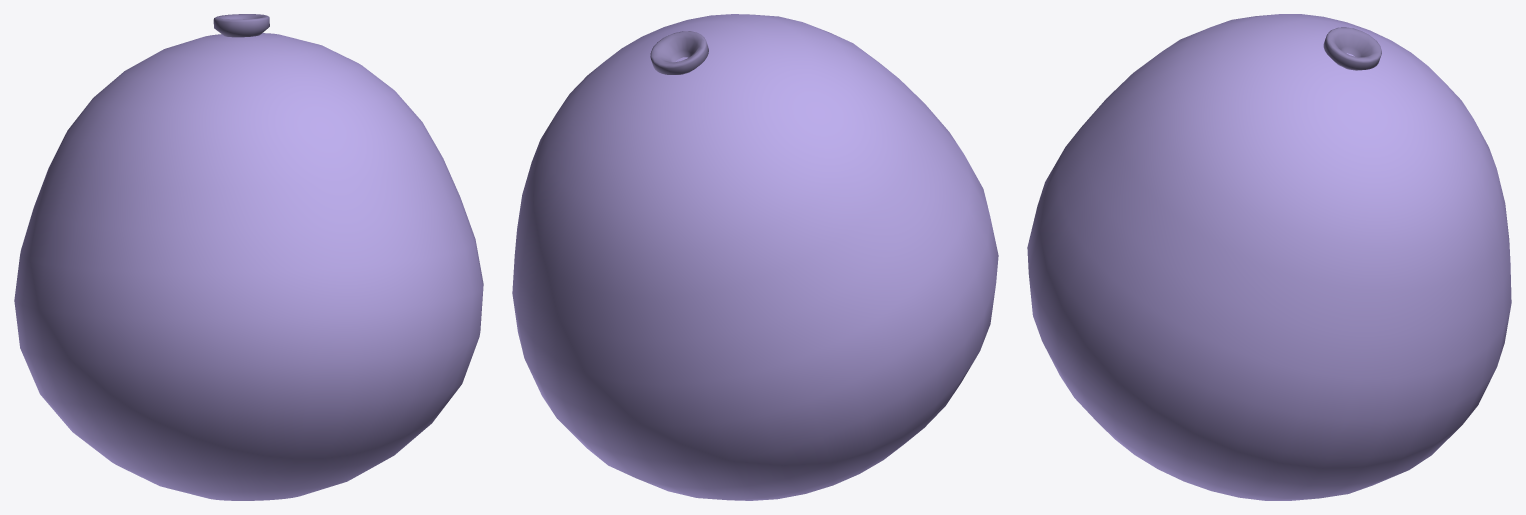
Rendered from Balloon_Blue.fbx.
3 renders of one model, left to right at view 1: azimuth 30°, elevation 25°; view 2: azimuth 150°, elevation 25°; view 3: azimuth 270°, elevation 25°, orthographic. The views are drawn at different scales.
Visible parts, largest first — view 1: Sphere.003; view 2: Sphere.003; view 3: Sphere.003.
Part boxes in pixels (x1,y1,x2,y2): Sphere.003: (14, 14, 483, 500); Sphere.003: (512, 14, 998, 500); Sphere.003: (1027, 14, 1511, 500).
Size of the model in its own units: 52.4 by 53.92 by 52.11.
